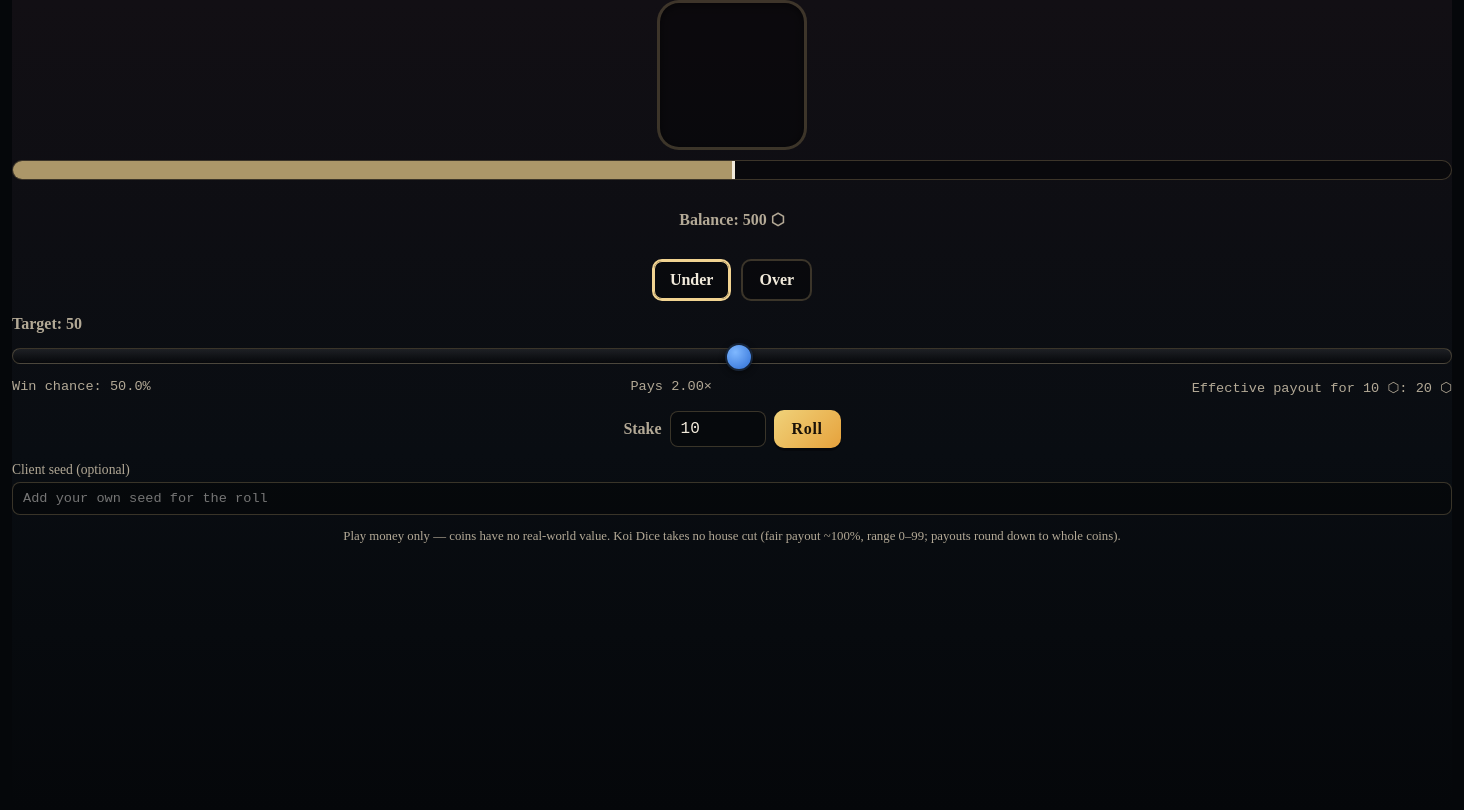
Test: KoiDiceModal › should show a neutral push, not a loss, when a roll settles at net 0
Step 1. Click the button "Roll" → point(807, 429), box [774,410,841,448]
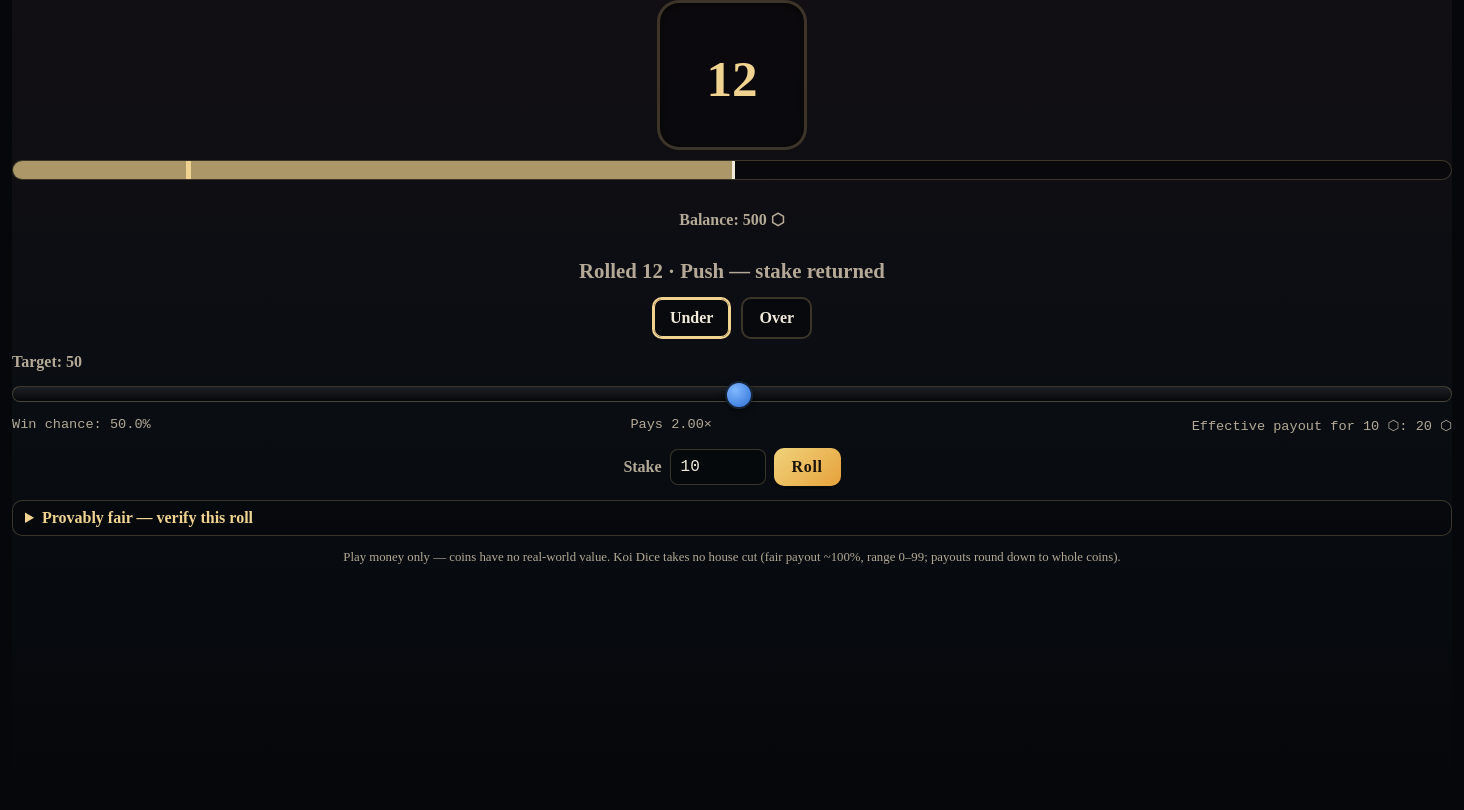
Result: the text "Rolled 12 · Push — stake returned" is shown at [579,259,885,283]
